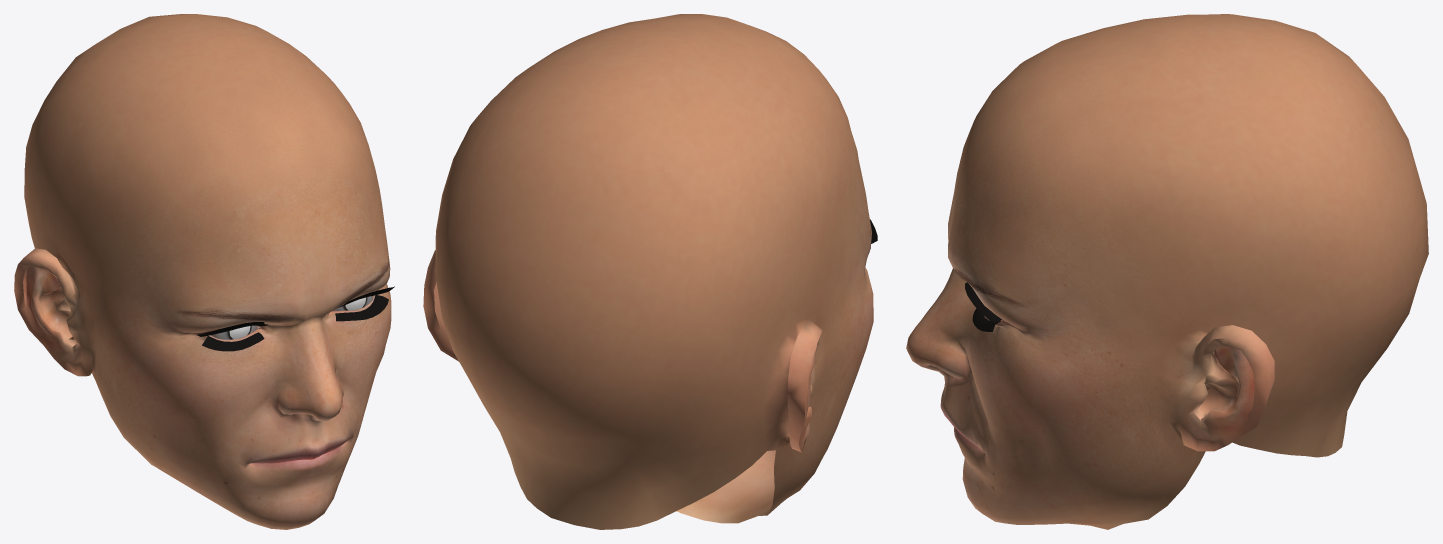
File: Old.obj
The picture shows the model from 3 angles, left to right: view 1: azimuth 30°, elevation 25°; view 2: azimuth 150°, elevation 25°; view 3: azimuth 270°, elevation 25°; orthographic projection. The views are drawn at different scales.
Visible parts, largest first — view 1: Head; view 2: Head; view 3: Head.
Boxes of the visible parts, box(x1,y1,x2,y2) form: Head: box(14, 14, 394, 529); Head: box(423, 14, 877, 529); Head: box(906, 14, 1428, 529).
Bounding box in the file's own units: 18.28 × 23.45 × 22.65.
